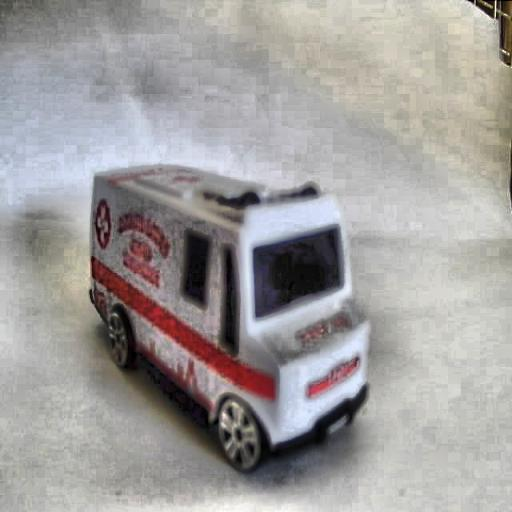ambulance: (88, 163, 369, 474)
